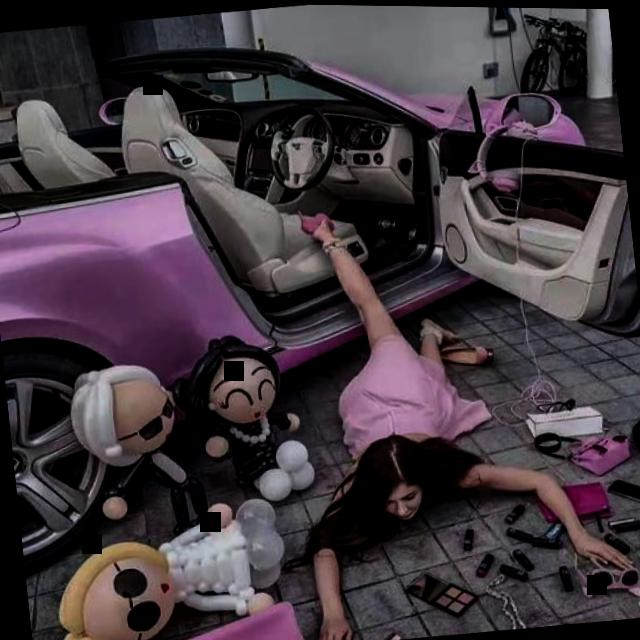Fall-Detected: (253, 152, 629, 640)
